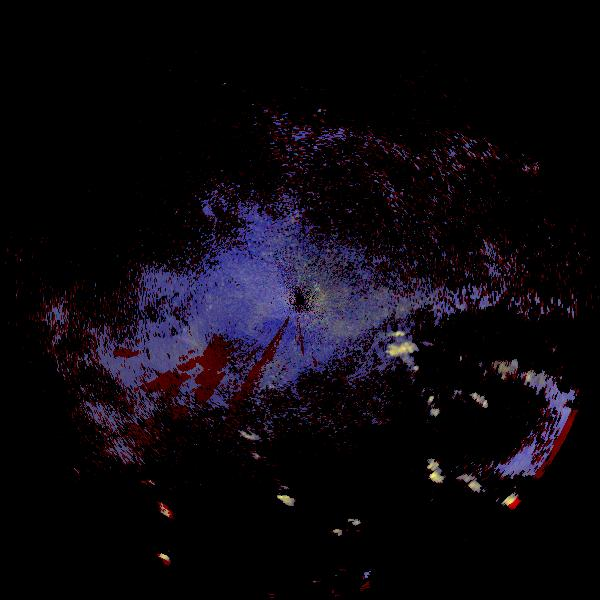roost: (111, 304, 225, 418)
